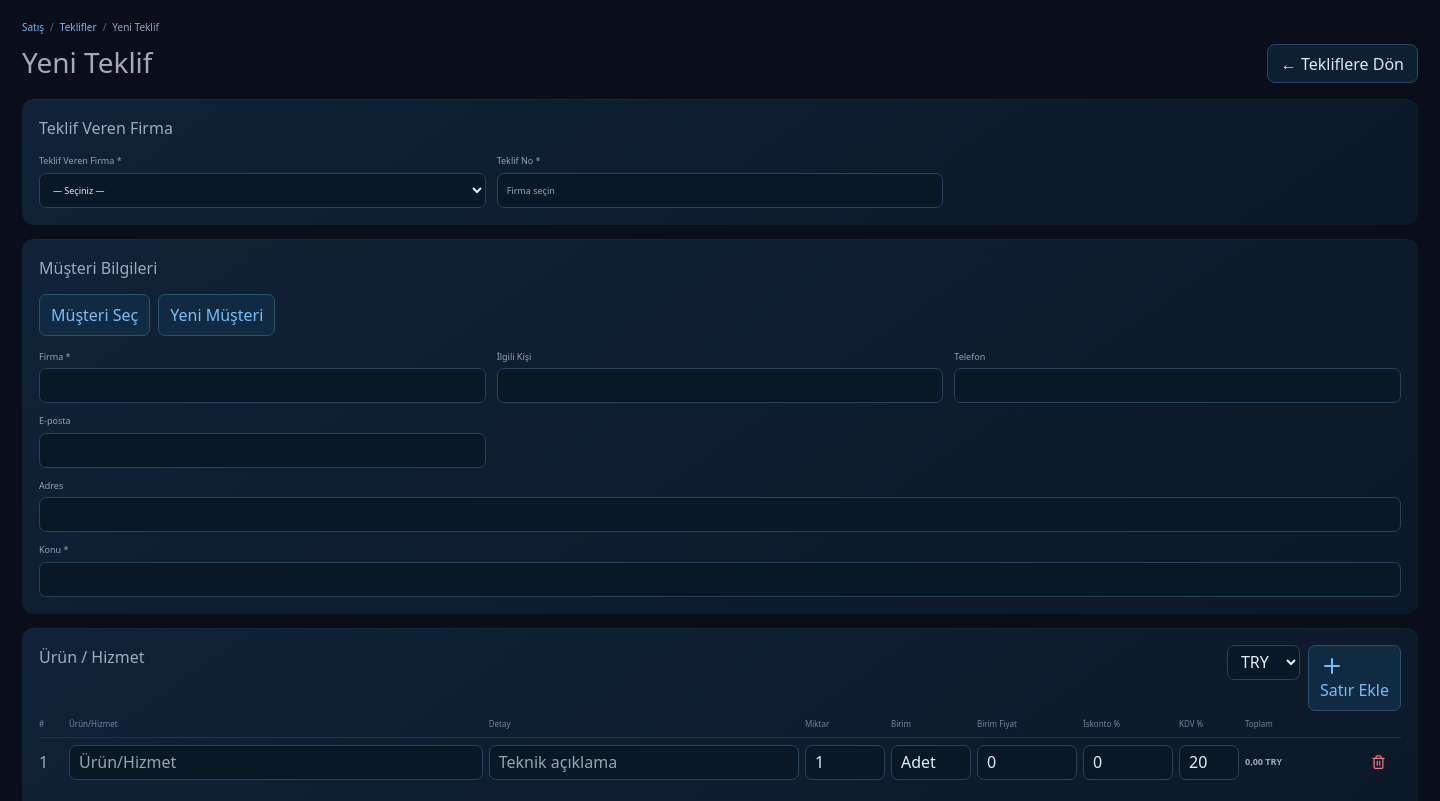
Scenario: QuoteFormPage — customer flow › populates customer fields from the selected real Parasut customer
The image size is (1440, 801).
Click the button "Müşteri Seç" at (95, 314), box [39,294,150,336]
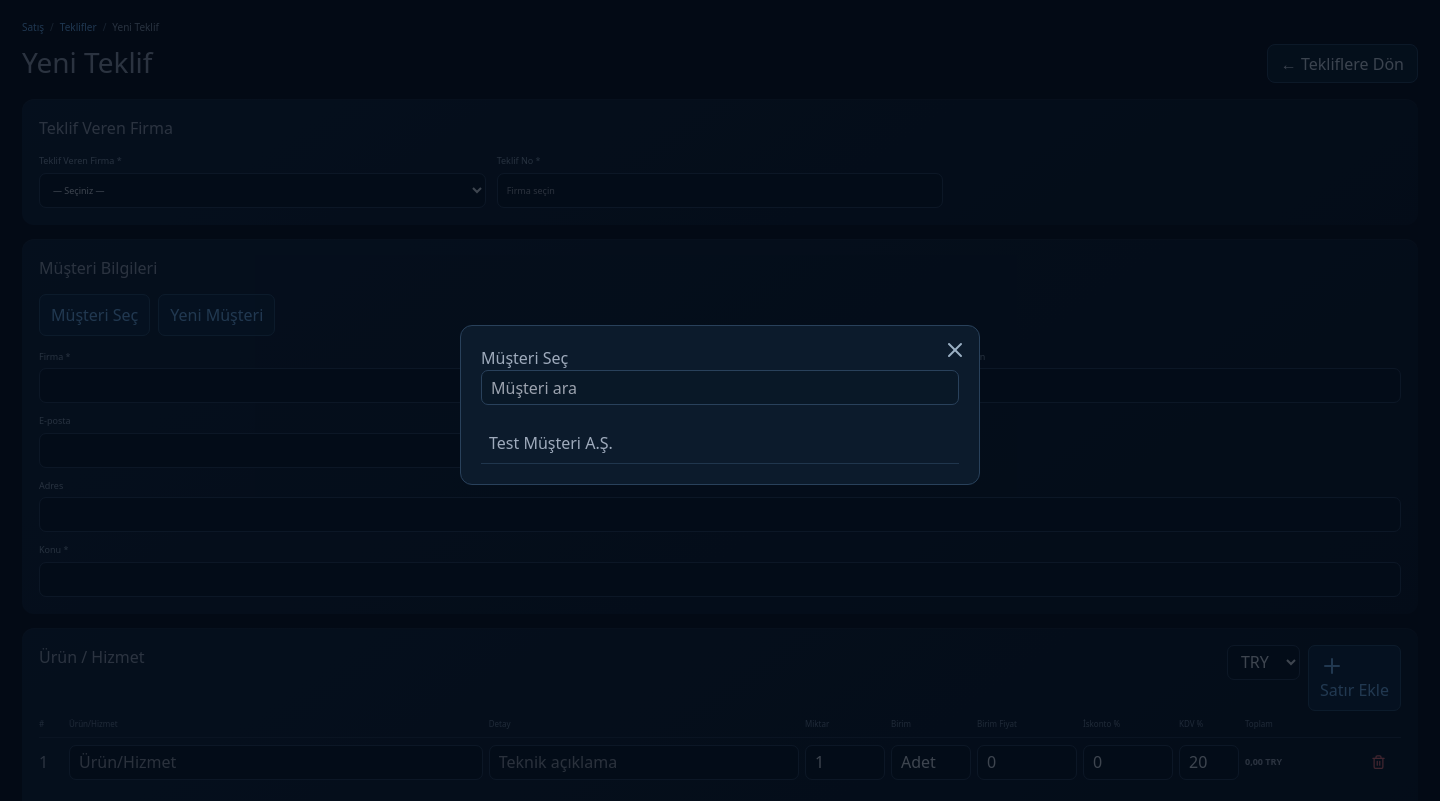
Expected: the button "Test Müşteri A.Ş." is shown
Click the button "Test Müşteri A.Ş." at (551, 443), box [481,423,959,464]
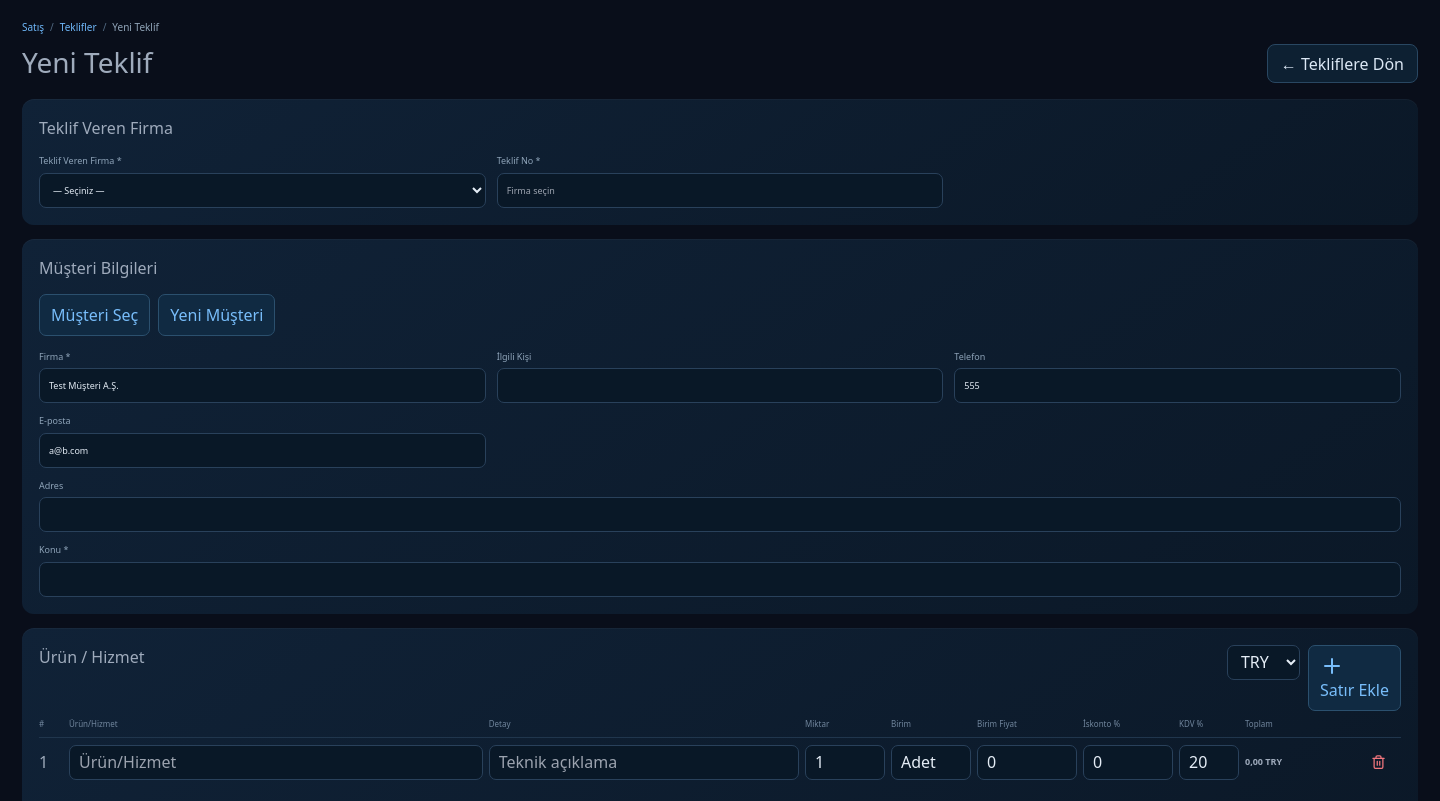
Expected: the field showing "Test Müşteri A.Ş." is shown, [39,368,486,403]
